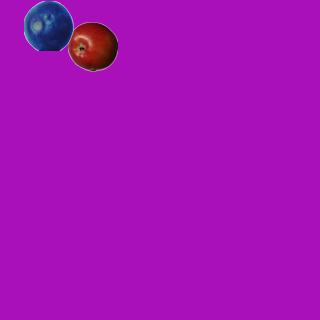Apple Braeburn: (67, 21, 117, 71)
Huckleberry: (23, 0, 73, 50)
